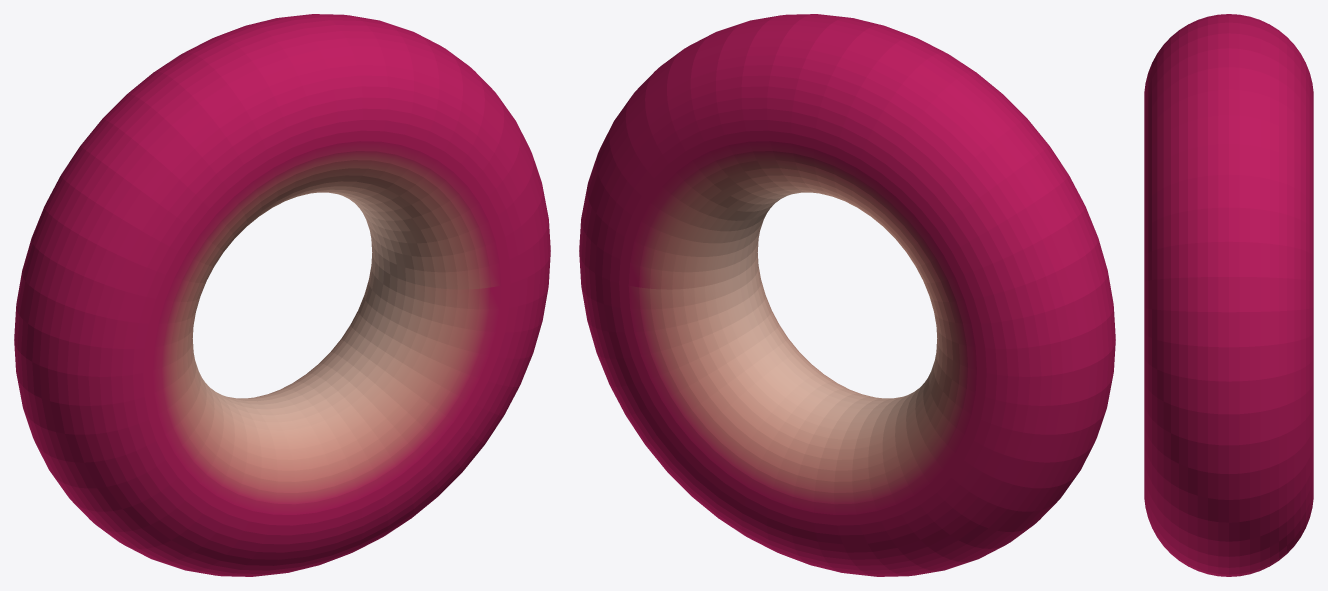
3 renders of one model, left to right at view 1: azimuth 30°, elevation 25°; view 2: azimuth 150°, elevation 25°; view 3: azimuth 270°, elevation 25°, orthographic. The views are drawn at different scales.
Visible parts, largest first — view 1: world; view 2: world; view 3: world.
Boxes of the visible parts, x1,y1,x2,y2 form: world: (14, 14, 550, 576); world: (579, 14, 1115, 576); world: (1144, 14, 1313, 576).
Bounding box in the file's own units: 29.6 × 29.54 × 8.92.
